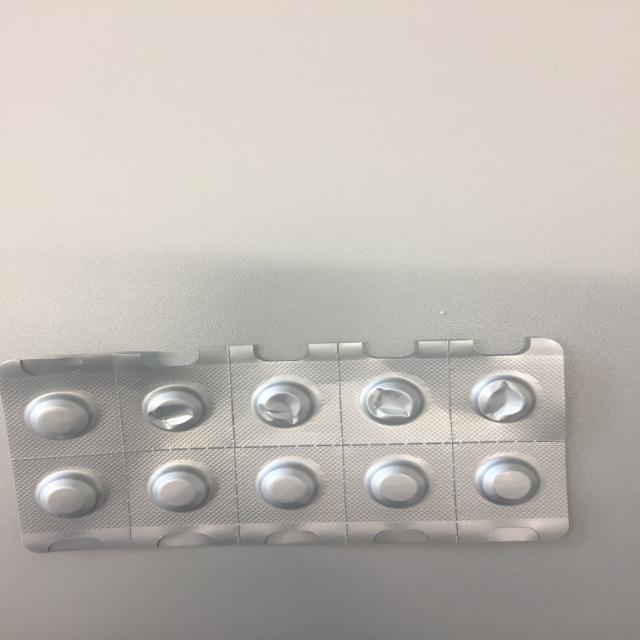Empty: (356, 370, 435, 430), (132, 382, 216, 436), (244, 378, 323, 432), (468, 371, 542, 426)
Pill: (356, 453, 434, 511), (140, 459, 219, 516), (250, 456, 326, 515), (33, 464, 111, 520), (19, 390, 100, 443), (470, 452, 542, 510)
